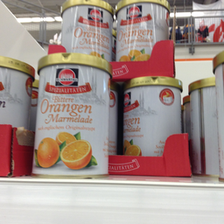jam: (33, 52, 111, 179), (122, 76, 184, 157), (115, 1, 170, 61), (59, 1, 112, 60)
